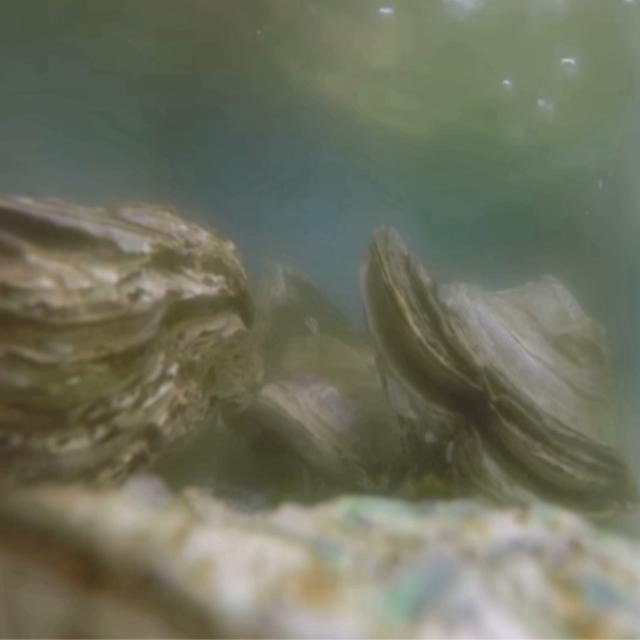Oyster-Closed: (0, 194, 256, 523)
Oyster-Indeterminate: (0, 473, 640, 640), (257, 337, 419, 504)
Oyster-Open: (357, 225, 640, 538)
